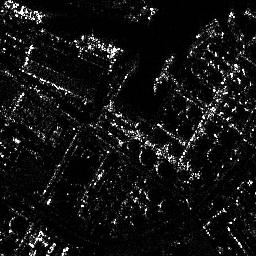ship: (77, 31, 119, 57), (2, 1, 46, 21), (153, 54, 175, 90)
